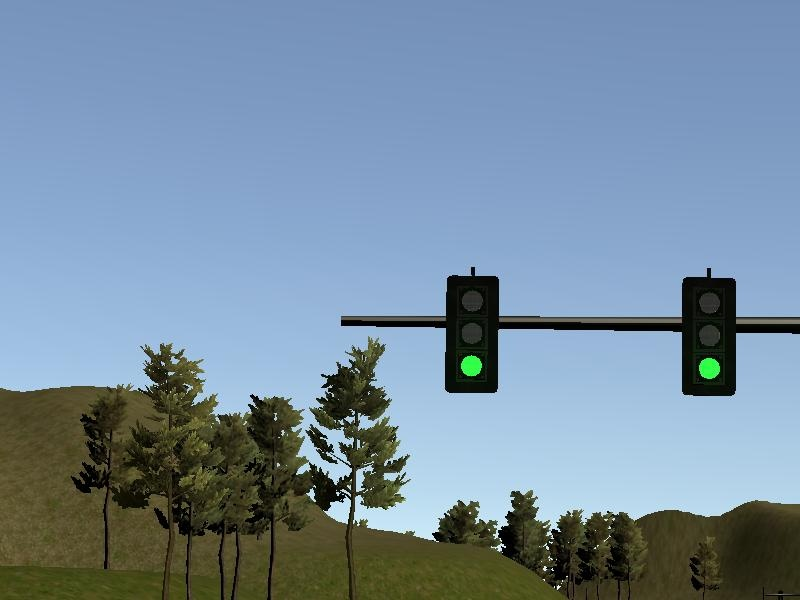GREEN: (682, 277, 736, 395), (444, 277, 497, 392)
